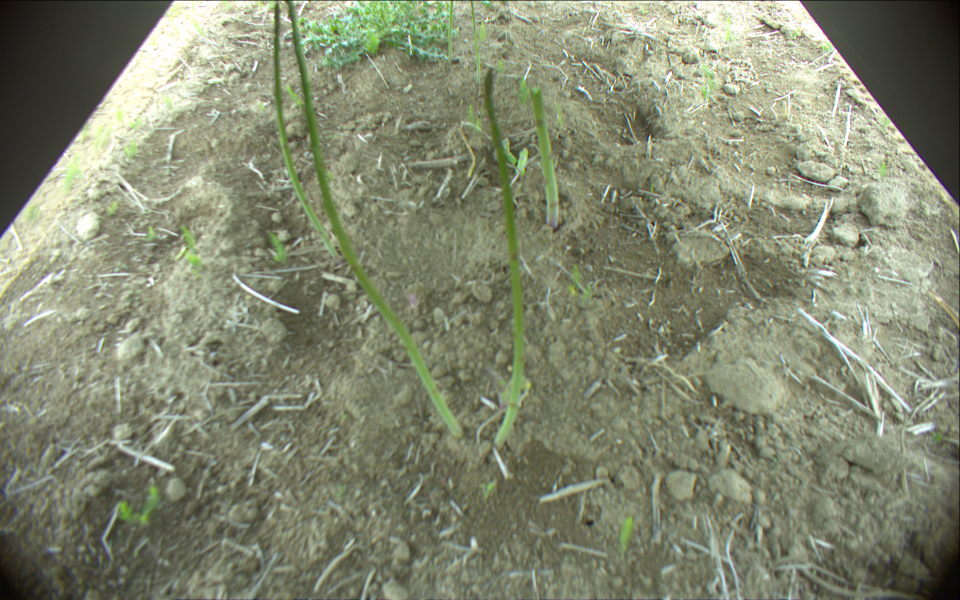aspa: (283, 1, 463, 439), (271, 1, 338, 258), (480, 68, 525, 448), (530, 86, 561, 226), (468, 1, 481, 78), (447, 1, 453, 61)
